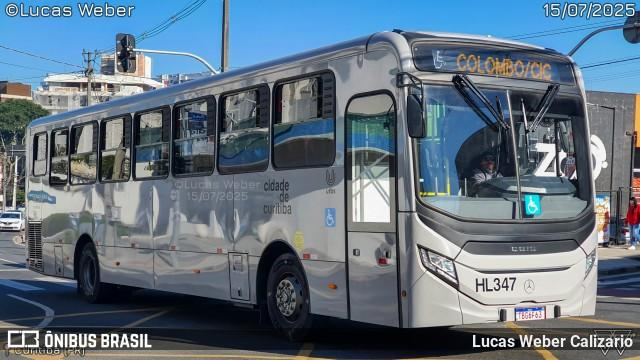COLOMBO CIC: (451, 50, 554, 82)
